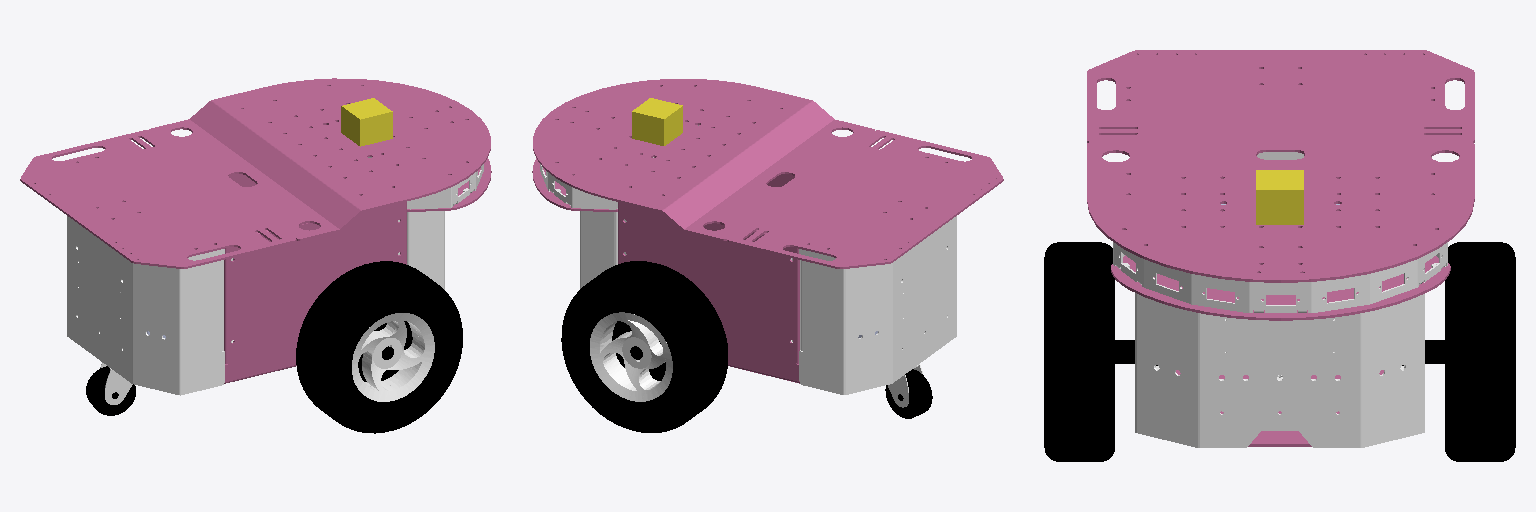
URDF robot description (mobile_robot):
<?xml version="1.0"?>
<robot
	name="mobile_robot">


	<link
		name="Motor_baseplate">
		<inertial>
			<origin	xyz="-0.095084 2.4984E-12 0.001437"	rpy="0 0 3.14" />
			<mass		value="0.26955" />
			<inertia
				ixx="0.0019634"
				ixy="-4.3075E-14"
				ixz="-0.00010131"
				iyy="0.0028875"
				iyz="1.3275E-15"
				izz="0.0047856" />
		</inertial>
		<visual>
			<origin	xyz="0 0 0"	rpy="0 0 0" />
			<geometry>
				<mesh	filename="package://mobile_robot/meshes/Motor_baseplate.STL" />
			</geometry>
			<material	name="">
				<color	rgba="1.0 1.0 1.0 1" />
			</material>
		</visual>
		<collision>
			<origin	xyz="0 0 0"	rpy="0 0 0" />
			<geometry>
				<mesh	filename="package://mobile_robot/meshes/Motor_baseplate.STL" />
			</geometry>
		</collision>
	</link>


	<link name="base_footprint"/>
	<joint name="base_joint" type="fixed">
		<origin xyz="0 0 0.0102" rpy="0 0 0" />
		<parent link="base_footprint"/>
		<child link="Motor_baseplate" />
	</joint>

	<link	name="Left_wheel">
		<inertial>
			<origin	xyz="0.090207 9.7449E-07 -6.0063E-07"	rpy="0 0 0" />
			<mass		value="2.1873" />
			<inertia
				ixx="0.016817"
				ixy="4.8749E-08"
				ixz="-6.4831E-08"
				iyy="0.0094114"
				iyz="-1.9511E-08"
				izz="0.0094114" />
		</inertial>
		<visual>
			<origin	xyz="0 0 0"	rpy="0 0 0" />
			<geometry>
				<mesh	filename="package://mobile_robot/meshes/Left_wheel.STL" />
			</geometry>
			<material	name="">
				<color	rgba="0 0 0 1" />
			</material>
		</visual>
		<collision>
			<origin	xyz="0 0 0"	rpy="0 0 0" />
			<geometry>
				<mesh	filename="package://mobile_robot/meshes/Left_wheel.STL" />
			</geometry>
		</collision>
	</link>
	<joint name="Left_wheel_joint" type="continuous">
		<origin	xyz="0 0.114 0.022"	rpy="-0.20708 -8.4323E-07 1.5708" />
		<parent	link="Motor_baseplate" />
		<child	link="Left_wheel" />
		<axis		xyz="-1 0 0" />
	</joint>


	<link	name="Left_wheelcover">
		<inertial>
			<origin	xyz="0.057053 -5.9334E-06 2.5549E-05"	rpy="0 0 0" />
			<mass 	value="0.25632" />
			<inertia
				ixx="0.00064924"
				ixy="-7.647E-09"
				ixz="3.6365E-08"
				iyy="0.00034924"
				iyz="-2.3054E-08"
				izz="0.0003494" />
		</inertial>
		<visual>
			<origin	xyz="0 0 0"	rpy="0 0 0" />
			<geometry>
				<mesh	filename="package://mobile_robot/meshes/Left_wheelcover.STL" />
			</geometry>
			<material	name="">
				<color	rgba="1.0 1.0 1.0 1" />
			</material>
		</visual>
		<collision>
			<origin	xyz="0 0 0"	rpy="0 0 0" />
			<geometry>
				<mesh	filename="package://mobile_robot/meshes/Left_wheelcover.STL" />
			</geometry>
		</collision>
	</link>
	<joint	name="Left_wheelcover_joint"	type="fixed">
		<origin	xyz="0.05 0 0" rpy="-3.5319E-16 -4.5232E-19 2.1176E-22" />
		<parent	link="Left_wheel" />
		<child	link="Left_wheelcover" />
		<axis		xyz="0 0 0" />
	</joint>


	<link	name="Right_wheel">
		<inertial>
			<origin	xyz="0.090215 -1.3816E-06 -6.0009E-06" rpy="0 0 0" />
			<mass		value="2.1999" />
			<inertia
				ixx="0.016843"
				ixy="-6.2156E-08"
				ixz="-2.3022E-07"
				iyy="0.0094245"
				iyz="1.7961E-09"
				izz="0.0094246" />
		</inertial>
		<visual>
			<origin	xyz="0 0 0"	rpy="0 0 0" />
			<geometry>
				<mesh	filename="package://mobile_robot/meshes/Right_wheel.STL" />
			</geometry>
			<material	name="">
				<color	rgba="0 0 0 1" />
			</material>
		</visual>
		<collision>
			<origin	xyz="0 0 0"	rpy="0 0 0" />
			<geometry>
				<mesh	filename="package://mobile_robot/meshes/Right_wheel.STL" />
			</geometry>
		</collision>
	</link>
	<joint name="Right_wheel_joint" type="continuous">
		<origin	xyz="0 -0.114 0.022" rpy="-0.085264 -9.5588E-07 -1.5708" />
		<parent	link="Motor_baseplate" />
		<child	link="Right_wheel" />
		<axis		xyz="1 0 0" />
	</joint>

	<link	name="Right_wheelcover">
		<inertial>
			<origin	xyz="0.056526 -5.0476E-07 -2.5328E-06"	rpy="0 0 0" />
			<mass		value="0.27103" />
			<inertia
				ixx="0.00066983"
				ixy="1.1871E-09"
				ixz="3.1835E-09"
				iyy="0.00036231"
				iyz="-5.6635E-10"
				izz="0.00036234" />
		</inertial>
		<visual>
			<origin	xyz="0 0 0"	rpy="0 0 0" />
			<geometry>
				<mesh	filename="package://mobile_robot/meshes/Right_wheelcover.STL" />
			</geometry>
			<material	name="">
				<color	rgba="1.0 1.0 1.0 1" />
			</material>
		</visual>
		<collision>
			<origin	xyz="0 0 0"	rpy="0 0 0" />
			<geometry>
				<mesh	filename="package://mobile_robot/meshes/Right_wheelcover.STL" />
			</geometry>
		</collision>
	</link>
	<joint	name="Right_wheelcover_joint"	type="fixed">
		<origin	xyz="0.05 0 0" rpy="-7.0013E-16 2.1176E-22 8.4703E-22" />
		<parent	link="Right_wheel" />
		<child	link="Right_wheelcover" />
		<axis		xyz="0 0 0" />
	</joint>


	<link	name="Main_body">
		<inertial>
			<origin	xyz="0.14964 -0.13417 -0.21594"	rpy="0 0 0" />
			<mass		value="1.5442" />
			<inertia
				ixx="0.047875"
				ixy="-4.6224E-05"
				ixz="1.3134E-05"
				iyy="0.053295"
				iyz="0.0036517"
				izz="0.033917" />
		</inertial>
		<visual>
			<origin	xyz="0 0 0"	rpy="0 0 0" />
			<geometry>
				<mesh	filename="package://mobile_robot/meshes/Main_body.STL" />
			</geometry>
			<material	name="">
				<color	rgba="0 0 0 0 1" />
			</material>
		</visual>
		<collision>
			<origin	xyz="0 0 0"	rpy="0 0 0" />
			<geometry>
				<mesh	filename="package://mobile_robot/meshes/Main_body.STL" />
			</geometry>
		</collision>
	</link>
	<joint	name="Main_body_joint"	type="fixed">
		<origin	xyz="0.167 0.15 -0.008"	rpy="-1.5708 -6.123E-17 -1.5708" />
		<parent	link="Motor_baseplate" />
		<child	link="Main_body" />
		<axis		xyz="0 0 0" />
	</joint>


	<link	name="Front_Rear_cover">
		<inertial>
			<origin	xyz="5.0053E-05 0.11115 -0.14218"	rpy="0 0 0" />
			<mass		value="0.61934" />
			<inertia
				ixx="0.030537"
				ixy="-3.0862E-06"
				ixz="-7.6957E-06"
				iyy="0.035972"
				iyz="-0.00066515"
				izz="0.010161" />
		</inertial>
		<visual>
			<origin	xyz="0 0 0"	rpy="0 0 0" />
			<geometry>
				<mesh	filename="package://mobile_robot/meshes/Front_Rear_cover.STL" />
			</geometry>
			<material	name="">
				<color	rgba="1.0 1.0 1.0 1" />
			</material>
		</visual>
		<collision>
			<origin	xyz="0 0 0"	rpy="0 0 0" />
			<geometry>
				<mesh	filename="package://mobile_robot/meshes/Front_Rear_cover.STL" />
			</geometry>
		</collision>
	</link>
	<joint name="Front_Rear_cover_joint" type="fixed">
		<origin	xyz="0.15 0 -0.091502" rpy="0 0 3.1416" />
		<parent	link="Main_body" />
		<child	link="Front_Rear_cover" />
		<axis 	xyz="0 0 0" />
	</joint>


	<link	name="Caster_plate">
		<inertial>
			<origin	xyz="-4.7647E-09 -0.017081 -0.015959"	rpy="0 0 0" />
			<mass		value="0.007789" />
			<inertia
				ixx="3.4116E-06"
				ixy="6.054E-12"
				ixz="-1.9305E-12"
				iyy="3.3585E-06"
				iyz="-7.7171E-07"
				izz="3.2323E-06" />
		</inertial>
		<visual>
			<origin		xyz="0 0 0"	rpy="0 0 0" />
			<geometry>
				<mesh		filename="package://mobile_robot/meshes/Caster_plate.STL" />
			</geometry>
			<material	name="">
				<color	rgba="1 1 1 1" />
			</material>
		</visual>
		<collision>
			<origin	xyz="0 0 0"	rpy="0 0 0" />
			<geometry>
				<mesh	filename="package://mobile_robot/meshes/Caster_plate.STL" />
			</geometry>
		</collision>
	</link>
	<joint	name="Caster_plate_joint"	type="continuous">
		<origin	xyz="0.15 0.013 -0.4275"	rpy="1.5708 0.20142 1.0623E-15" />
		<parent	link="Main_body" />
		<child	link="Caster_plate" />
		<axis 	xyz="0 0 1" />
	</joint>


	<link	name="Caster">
		<inertial>
			<origin	xyz="-8.6059E-09 -1.2014E-08 -2.6406E-08"	rpy="0 0 0" />
			<mass		value="0.088423" />
			<inertia
				ixx="4.2254E-05"
				ixy="6.848E-12"
				ixz="-3.89E-11"
				iyy="2.7145E-05"
				iyz="-3.794E-10"
				izz="2.7144E-05" />
		</inertial>
		<visual>
			<origin	xyz="0 0 0"	rpy="0 0 0" />
			<geometry>
				<mesh	filename="package://mobile_robot/meshes/Caster.STL" />
			</geometry>
			<material	name="">
				<color	rgba="0 0 0 1" />
			</material>
		</visual>
		<collision>
			<origin	xyz="0 0 0"	rpy="0 0 0" />
			<geometry>
				<mesh	filename="package://mobile_robot/meshes/Caster.STL" />
			</geometry>
		</collision>
	</link>
	<joint name="Caster_joint" type="continuous">
		<origin	xyz="0 -0.029001 -0.039" rpy="-1.9055 -3.0531E-16 3.0531E-16" />
		<parent	link="Caster_plate" />
		<child	link="Caster" />
		<axis		xyz="1 0 0" />
	</joint>


	<link	name="Battery">
		<inertial>
			<origin	xyz="9.05E-05 -1.9954E-08 -0.047057" rpy="0 0 0" />
			<mass		value="1.3923" />
			<inertia
				ixx="0.002143"
				ixy="-2.5143E-12"
				ixz="6.2298E-06"
				iyy="0.0036758"
				iyz="-1.1014E-09"
				izz="0.0037628" />
		</inertial>
		<visual>
			<origin	xyz="0 0 0"	rpy="0 0 0" />
			<geometry>
				<mesh	filename="package://mobile_robot/meshes/Battery.STL" />
			</geometry>
			<material	name="">
				<color	rgba="0.79216 0.81961 0.93333 1" />
			</material>
		</visual>
		<collision>
			<origin xyz="0 0 0"	rpy="0 0 0" />
			<geometry>
				<mesh	filename="package://mobile_robot/meshes/Battery.STL" />
			</geometry>
		</collision>
	</link>
	<joint name="Battery_joint" type="fixed">
		<origin	xyz="0.1475 -0.008 -0.397" rpy="1.5708 -4.3368E-17 -3.1416" />
		<parent	link="Main_body" />
		<child	link="Battery" />
		<axis 	xyz="0 0 0" />
	</joint>

	<gazebo reference="Motor_baseplate">
		<material value="Gazebo/White"/>
	</gazebo>
	<gazebo reference="Main_body">
		<material value="Gazebo/Black"/>
	</gazebo>
	<gazebo reference="Front_Rear_cover">
		<material value="Gazebo/White"/>
	</gazebo>
	<gazebo reference="Caster_plate">
		<material value="Gazebo/White"/>
	</gazebo>
	<gazebo reference="Caster">
		<material value="Gazebo/Black"/>
	</gazebo>
	<gazebo reference="Left_wheel">
		<material value="Gazebo/Grey "/>
	</gazebo>
	<gazebo reference="Left_wheelcover">
		<material value="Gazebo/Black"/>
	</gazebo>
	<gazebo reference="Right_wheel">
		<material value="Gazebo/Grey "/>
	</gazebo>
	<gazebo reference="Right_wheelcover">
		<material value="Gazebo/Black"/>
	</gazebo>



	<transmission name="Left_wheel_joint_trans">
		<type>transmission_interface/SimpleTransmission</type>
		<joint name="Left_wheel_joint" >
			 <hardwareInterface>EffortJointInterface</hardwareInterface>
		</joint> 
		<actuator name="Left_wheel_joint_motor">
			<hardwareInterface>EffortJointInterface</hardwareInterface>
			<mechanicalReduction>1</mechanicalReduction>
		</actuator>
		</transmission>

	<transmission name="Right_wheel_joint_trans">
		<type>transmission_interface/SimpleTransmission</type>
		<joint name="Right_wheel_joint" >
			 <hardwareInterface>EffortJointInterface</hardwareInterface>
		</joint> 
		<actuator name="Right_wheel_joint_motor">
			<hardwareInterface>EffortJointInterface</hardwareInterface>
			<mechanicalReduction>1</mechanicalReduction>
		</actuator>
	</transmission>

	<gazebo>
		<plugin name="differential_drive_controller" filename="libgazebo_ros_diff_drive.so">
			<rosDebugLevel>Debug</rosDebugLevel>
			<publishWheelTF>true</publishWheelTF>
			<robotNamespace>/</robotNamespace>
			<publishTf>true</publishTf>
			<publishWheelJointState>true</publishWheelJointState>
			<alwaysOn>true</alwaysOn>
			<updateRate>10.0</updateRate>
			<legacyMode>false</legacyMode>
			<leftJoint>Right_wheel_joint</leftJoint>
			<rightJoint>Left_wheel_joint</rightJoint>
			<wheelSeparation>0.412</wheelSeparation>
			<wheelDiameter>0.226</wheelDiameter>
			<broadcastTF>1</broadcastTF>
			<wheelTorque>30</wheelTorque>
			<wheelAcceleration>1.8</wheelAcceleration>
			<commandTopic>/cmd_vel</commandTopic>
			<odometryFrame>/odom</odometryFrame> 
			<odometryTopic>/odom</odometryTopic> 
			<robotBaseFrame>base_footprint</robotBaseFrame>
		</plugin>
	</gazebo> 


	<gazebo>
		<plugin name="gazebo_ros_control" filename="libgazebo_ros_control.so">
			<robotNamespace></robotNamespace>
		</plugin>
	</gazebo>



	<link name="lrf_link">
		<visual>
			<origin xyz="0 0 0" rpy="0 0 0" />
			<geometry>
				<box size="0.05 0.05 0.05"/>
			</geometry>
			<material name="Blue" />
		</visual>
	</link>

	<joint name="lrf_joint" type="fixed">
		<!-- <origin xyz="-0.42 0 0.08" rpy="0 0 3.14" /> -->
		<origin xyz="0.10 0 0.25" rpy="0 0 0" />
		<parent link="base_footprint"/>
		<child link="lrf_link" />
	</joint>

	<gazebo reference="lrf_link">
		<material>Gazebo/Blue</material>
		<turnGravityOff>false</turnGravityOff>
		<sensor type="ray" name="head_hokuyo_sensor">
			<pose>0.05 0 0 0 0 0</pose>
			<visualize>false</visualize>
			<update_rate>10</update_rate>
			<ray>
				<scan>
					<horizontal>
						<samples>181</samples>
						<resolution>1</resolution>
						<min_angle>-1.57</min_angle>
						<max_angle>1.57</max_angle>
					</horizontal>
				</scan>
				<range>
					<min>0.50</min>
					<max>20.0</max>
					<resolution>0.1</resolution>
				</range>
				<noise>
					<type>gaussian</type>
					<mean>0.0</mean>
					<stddev>0.01</stddev>
				</noise>
			</ray>
			<plugin name="gazebo_ros_head_hokuyo_controller" filename="libgazebo_ros_laser.so">
				<topicName>/scan</topicName>
				<frameName>lrf_link</frameName>
			</plugin>
		</sensor>
	</gazebo>


	<gazebo>
		<plugin name="gazebo_ros_p3d" filename="libgazebo_ros_p3d.so">
			<alwaysOn>true</alwaysOn>
			<updateRate>30.0</updateRate>
			<bodyName>base_footprint</bodyName>
			<topicName>ground_truth_pose</topicName>
			<gaussianNoise>0.0</gaussianNoise>
			<frameName>map</frameName>
		</plugin>
	</gazebo> 

</robot>

--- Render facts (derived) ---
Views: 3 orthographic renders of the robot side by side, from view 1: azimuth 30°, elevation 25°; view 2: azimuth 150°, elevation 25°; view 3: azimuth 270°, elevation 25°.
Model mobile_robot with 12 links and 11 joints (4 continuous, 7 fixed), rooted at base_footprint, posed every joint at zero.
Visible links, largest first — view 1: Main_body, Front_Rear_cover, Right_wheel, Right_wheelcover, lrf_link, Caster, Caster_plate; view 2: Main_body, Front_Rear_cover, Left_wheel, Left_wheelcover, lrf_link, Caster; view 3: Main_body, Front_Rear_cover, Right_wheel, Left_wheel, lrf_link.
Boxes of the visible links, box(x1,y1,x2,y2) form: Main_body: box(20, 78, 491, 383); Front_Rear_cover: box(67, 157, 483, 395); Right_wheel: box(296, 261, 462, 433); Right_wheelcover: box(352, 313, 434, 401); lrf_link: box(341, 98, 392, 146); Caster: box(86, 366, 135, 415); Caster_plate: box(100, 362, 132, 404); Main_body: box(532, 79, 1003, 383); Front_Rear_cover: box(540, 125, 956, 394); Left_wheel: box(561, 261, 727, 432); Left_wheelcover: box(590, 312, 672, 401); lrf_link: box(632, 98, 682, 145); Caster: box(885, 369, 932, 418); Main_body: box(1087, 50, 1474, 446); Front_Rear_cover: box(1113, 152, 1447, 447); Right_wheel: box(1044, 242, 1157, 461); Left_wheel: box(1402, 242, 1515, 461); lrf_link: box(1256, 170, 1303, 224).
Size in the robot's own frame: 0.6055 by 0.486 by 0.3563 metres.
Meshes: 10 distinct files referenced, 10 mesh visuals loaded (10 binary STL).
